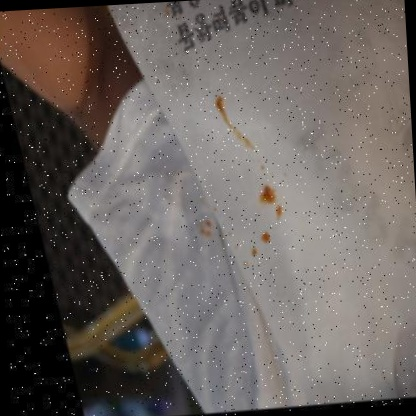kimchi: (211, 90, 265, 163), (256, 181, 290, 223), (195, 214, 219, 239), (241, 262, 256, 277), (251, 242, 263, 259), (260, 233, 275, 246), (258, 160, 270, 172), (212, 199, 221, 213)
